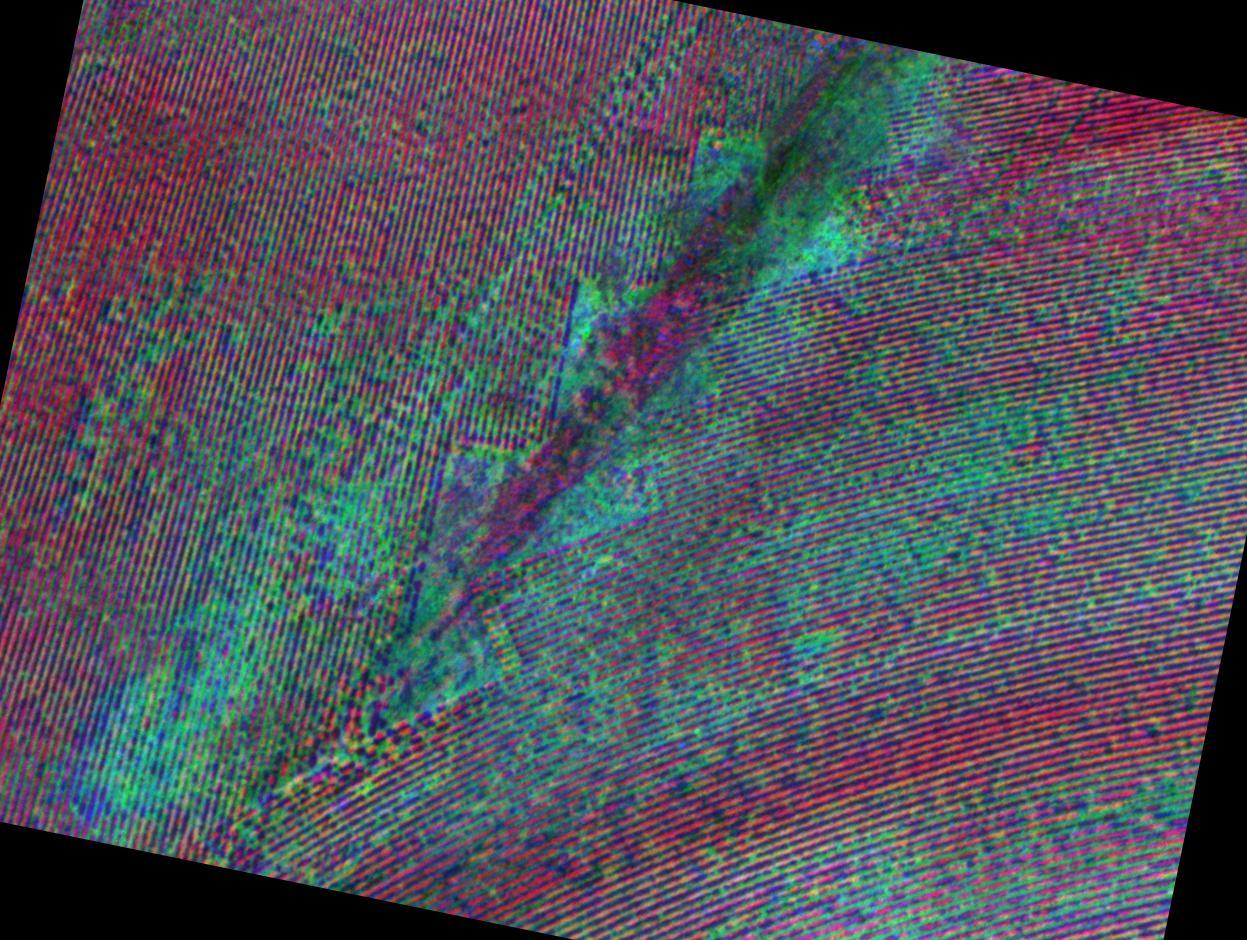dc: (96, 700, 189, 793), (326, 488, 402, 577), (823, 838, 904, 902), (586, 473, 655, 537), (801, 210, 852, 261), (708, 128, 748, 183)
